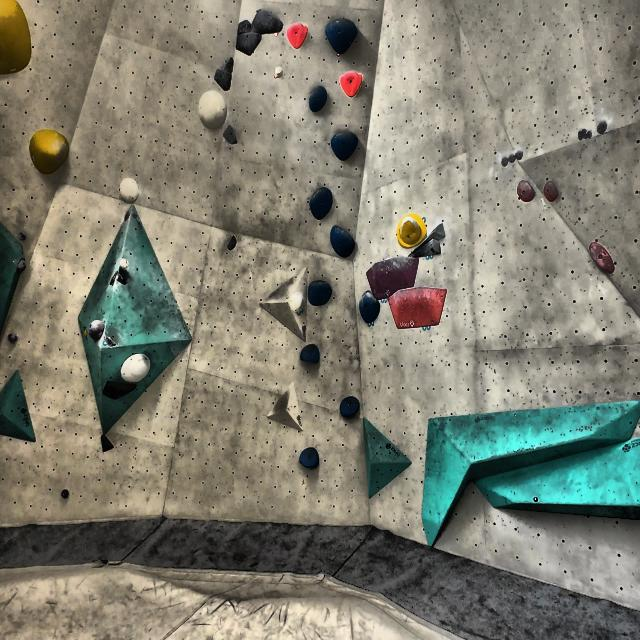Hold: (0, 0, 38, 73), (389, 286, 448, 329), (367, 259, 418, 297), (29, 128, 72, 172), (582, 240, 622, 283), (196, 90, 229, 134), (409, 226, 448, 262), (322, 19, 357, 53), (118, 351, 150, 387), (358, 288, 384, 328), (328, 226, 356, 262), (308, 278, 336, 314), (397, 214, 425, 247), (331, 130, 359, 162), (286, 18, 312, 51), (232, 22, 258, 54), (251, 8, 280, 36), (308, 187, 334, 218), (212, 55, 234, 89), (339, 76, 366, 103), (336, 394, 365, 417), (105, 381, 135, 403), (298, 342, 321, 367), (310, 84, 326, 119), (119, 175, 138, 204), (298, 445, 320, 470), (540, 181, 561, 207), (108, 275, 134, 292), (517, 183, 536, 205), (101, 431, 118, 452), (90, 321, 108, 340), (223, 126, 239, 146), (60, 482, 74, 504), (228, 232, 240, 254), (7, 332, 22, 348), (18, 260, 30, 273), (118, 259, 131, 269), (275, 66, 282, 78)
